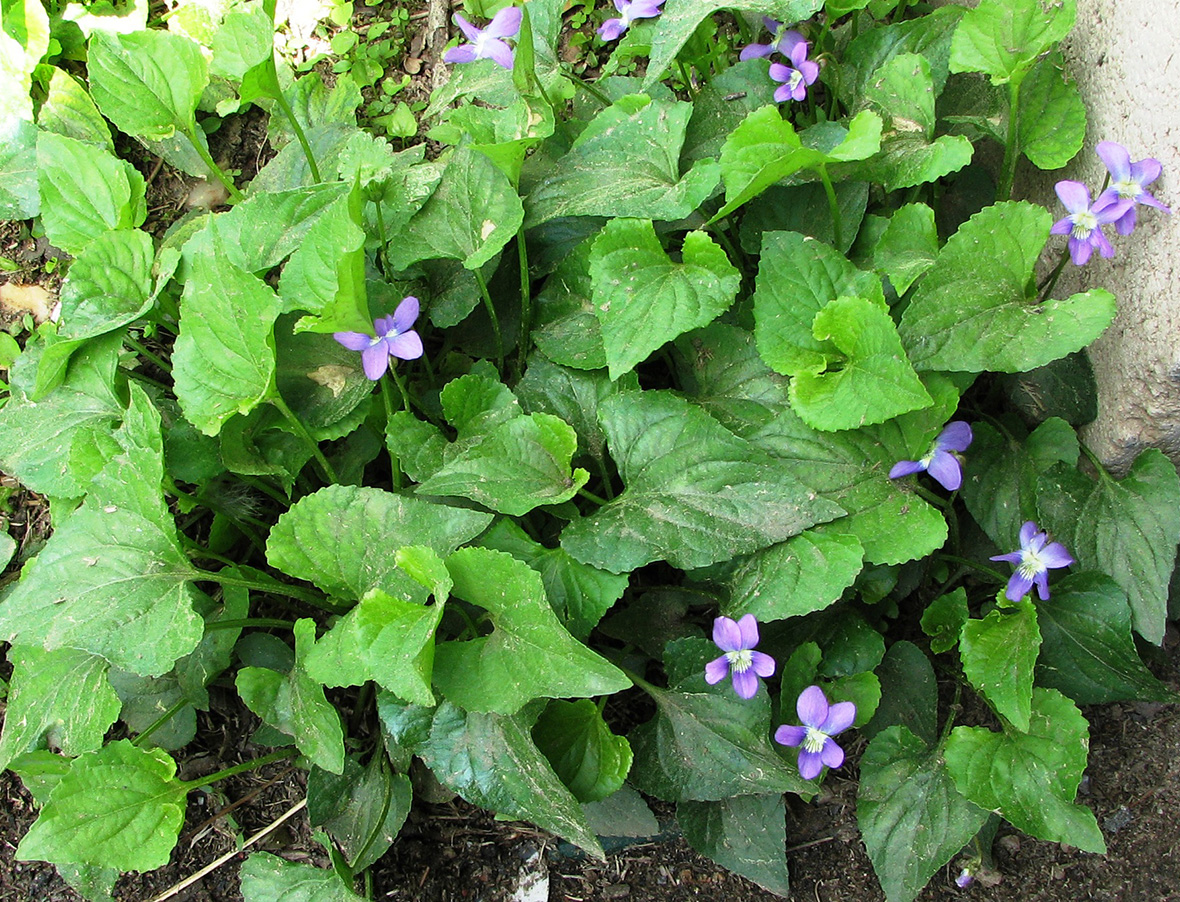violet: (762, 687, 867, 793), (331, 303, 432, 382), (1091, 145, 1172, 242), (1046, 170, 1121, 269), (692, 617, 779, 702), (985, 529, 1074, 607), (437, 11, 533, 80), (904, 426, 985, 503), (762, 40, 829, 103)
